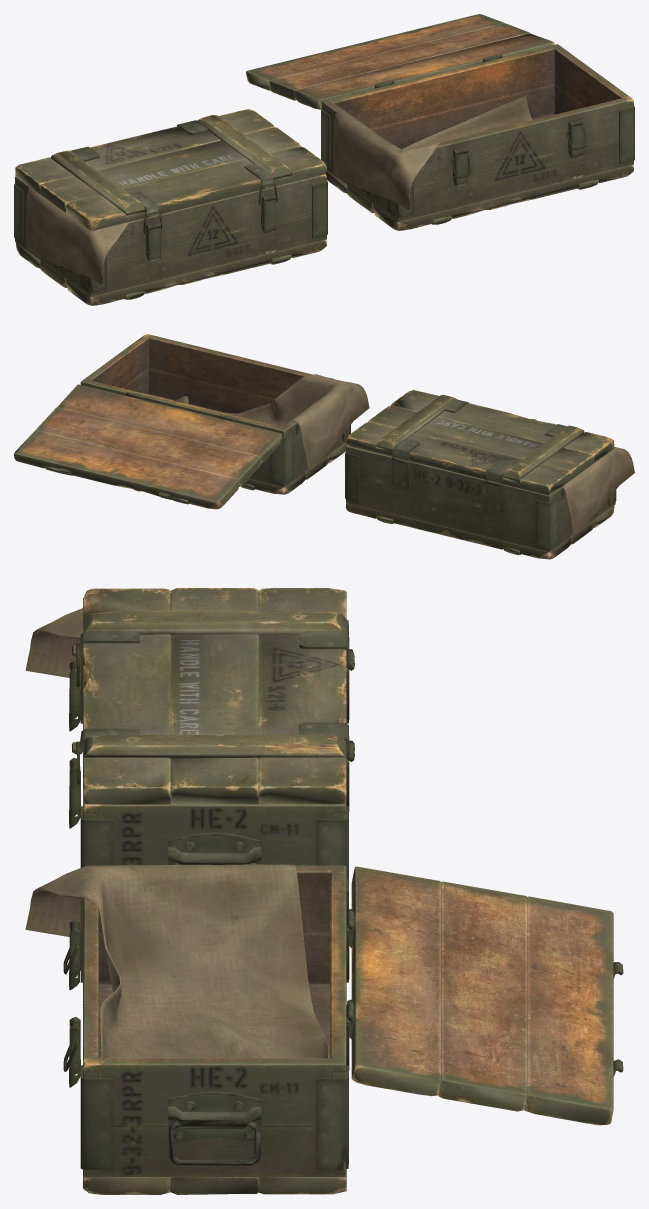
Rendered from military-crate.glb.
The picture shows the model from 3 angles, top to bottom: view 1: azimuth 30°, elevation 25°; view 2: azimuth 150°, elevation 25°; view 3: azimuth 270°, elevation 25°; orthographic projection. The views are drawn at different scales.
Parts seen in each view (by area): view 1: old_military_crate_lid_a; view 2: old_military_crate_lid_a; view 3: old_military_crate_lid_a.
Boxes of the visible parts, <box> form: old_military_crate_lid_a: <box>14,14,634,305</box>; old_military_crate_lid_a: <box>14,334,634,559</box>; old_military_crate_lid_a: <box>25,588,623,1194</box>.
Bounding box in the file's own units: 1.81 × 0.3009 × 0.9753.
Materials: 1 (1 with a texture image).
